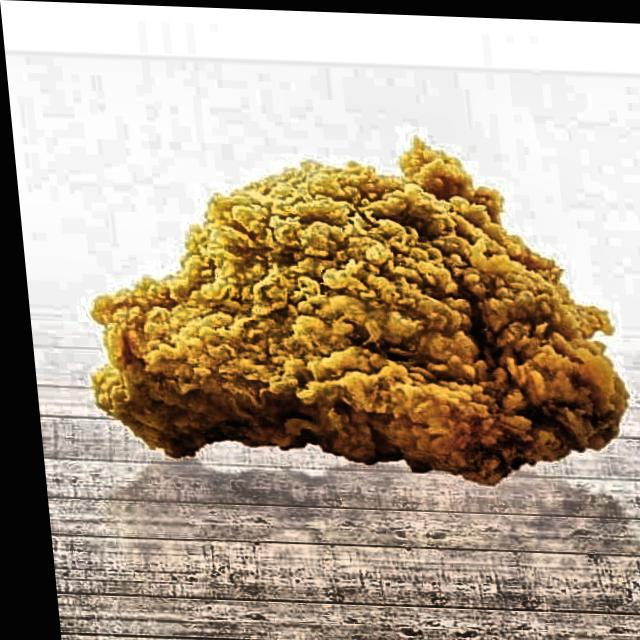Food: (72, 137, 608, 484)
